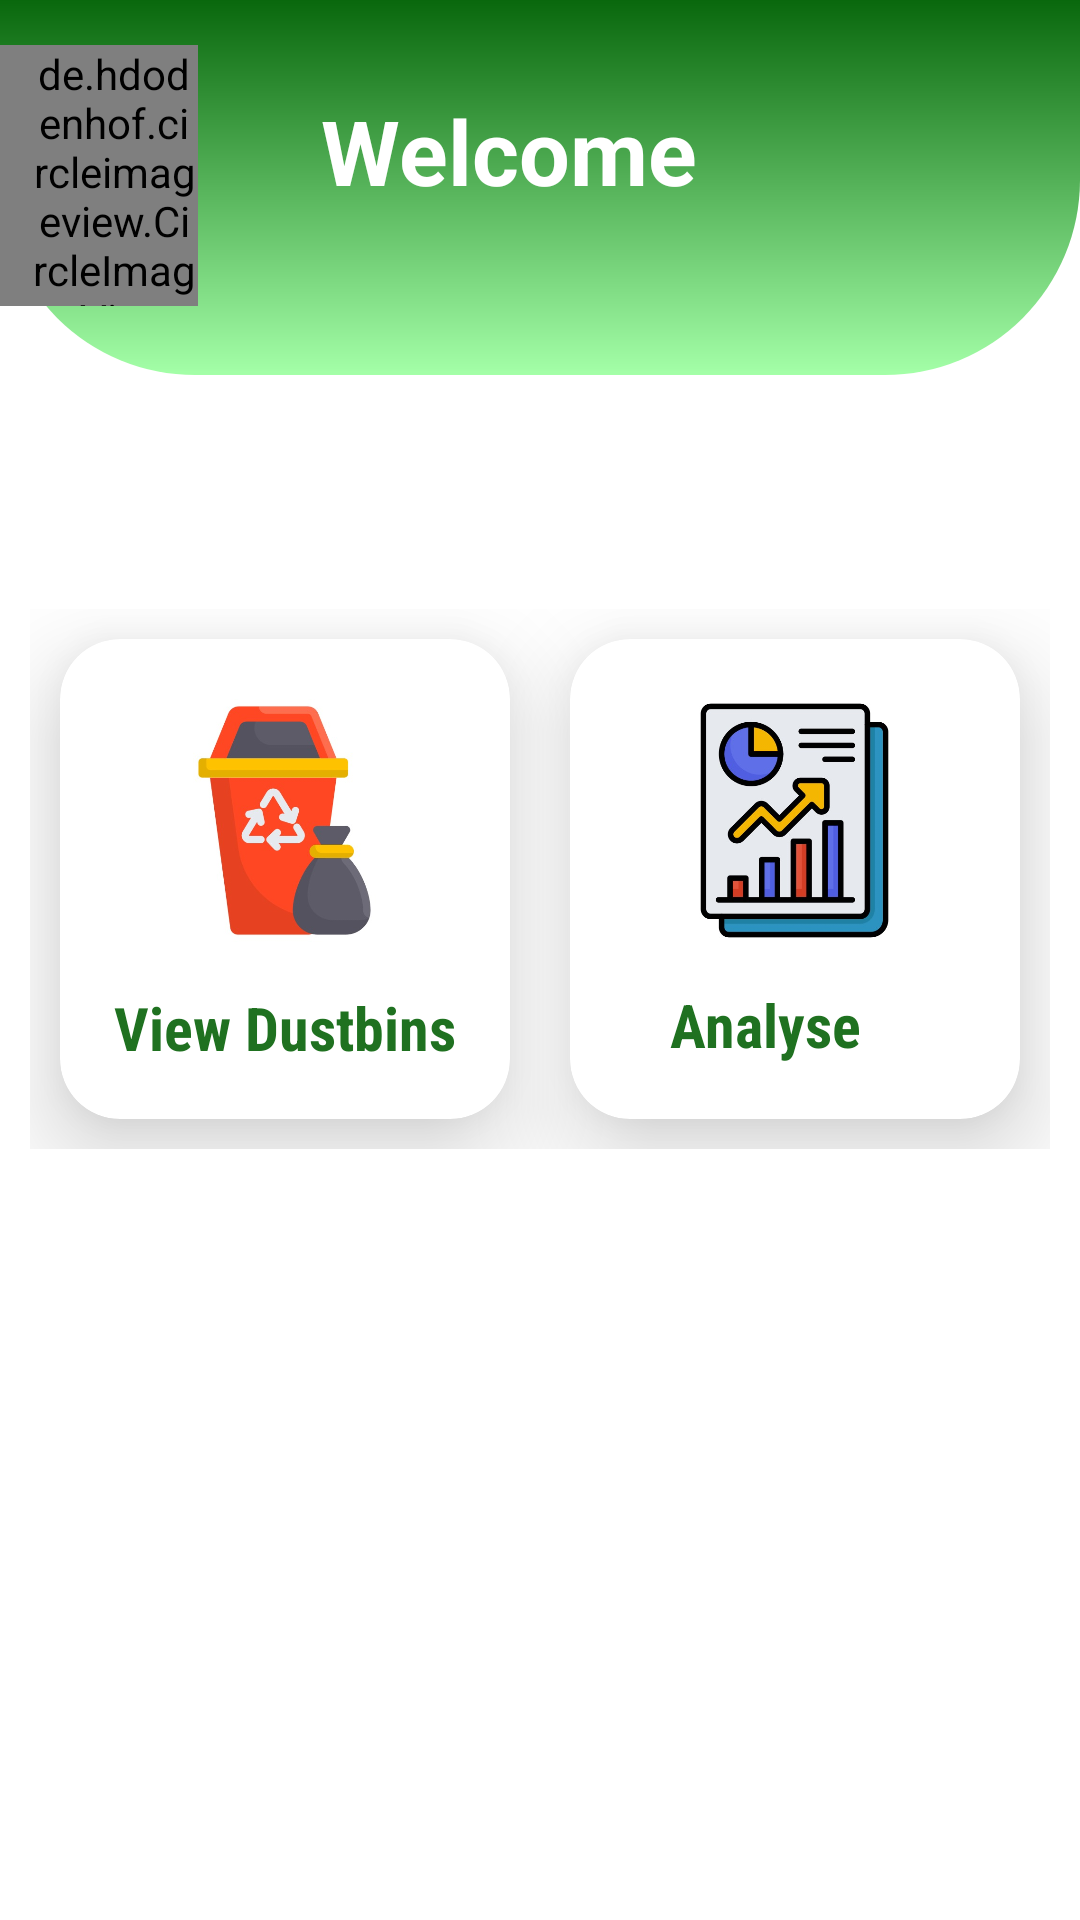

Icons on this 1080px×1920px Android screen, each with its box as (x1, y1, x2, y2):
graph: (700, 703, 889, 938)
